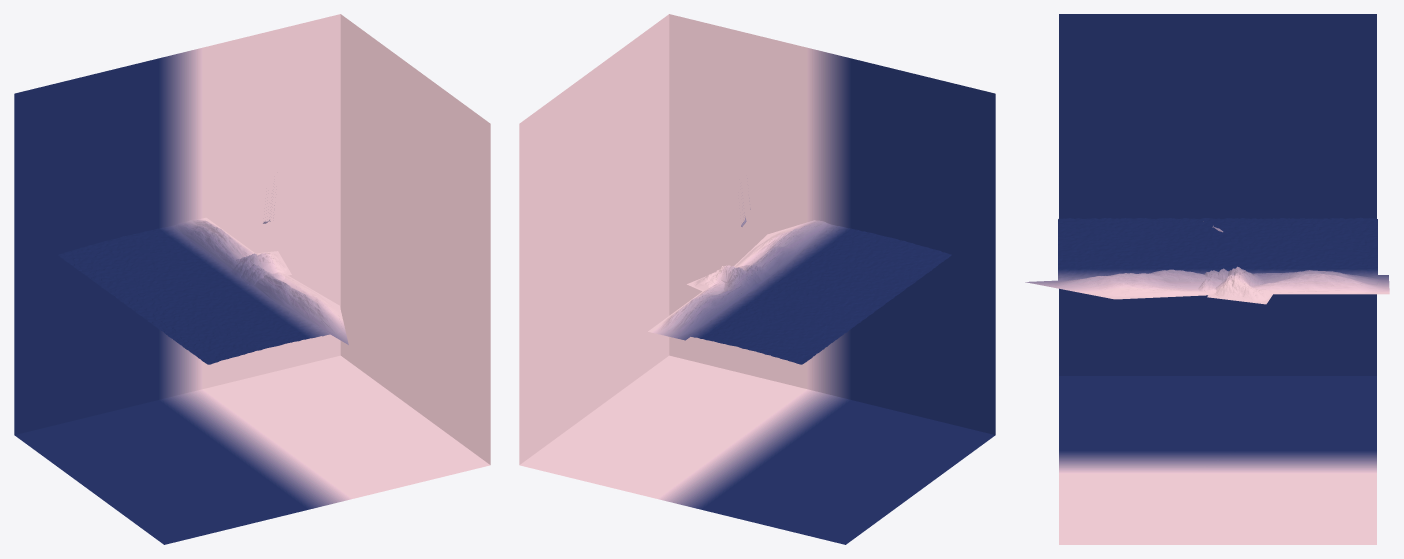
File: the_hitchhikers_guide_to_the_galaxy.glb
3 views of the same model, side by side, from view 1: azimuth 30°, elevation 25°; view 2: azimuth 150°, elevation 25°; view 3: azimuth 270°, elevation 25° (orthographic). The views are drawn at different scales.
Visible parts, largest first — view 1: Land_0; view 2: Land_0; view 3: Land_0.
Boxes of the visible parts, box(x1,y1,x2,y2) form: Land_0: box(14, 14, 490, 544); Land_0: box(519, 14, 995, 544); Land_0: box(1025, 14, 1389, 544).
Bounding box in the file's own units: 163 × 163 × 149.
1 material, 1 textured.
